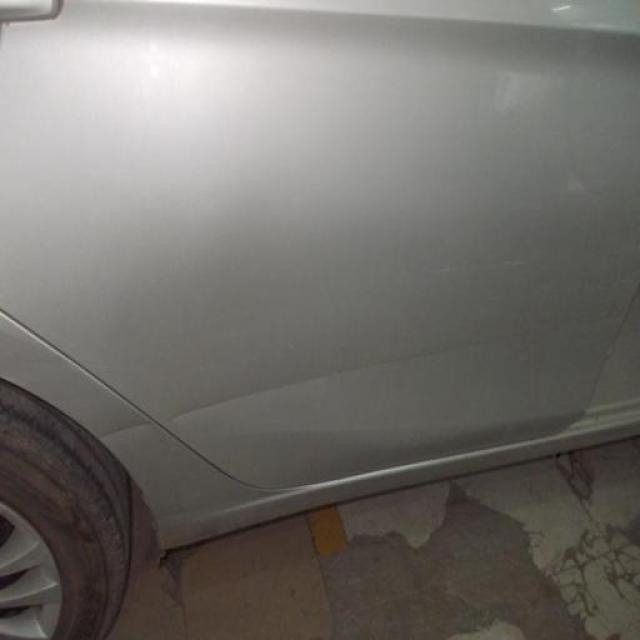scratch: (96, 329, 533, 449), (424, 250, 539, 280)
